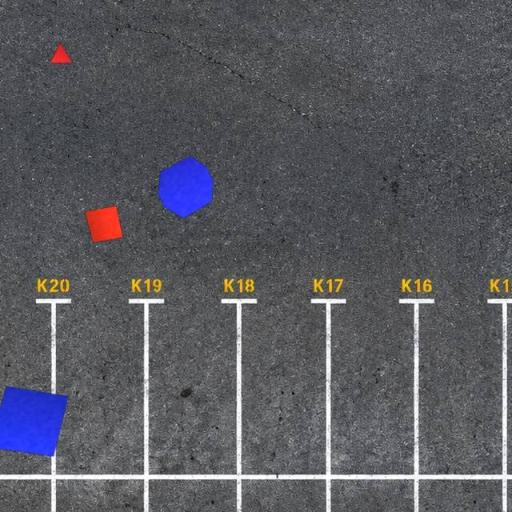BLUE_SQUARE: (0, 386, 69, 458)
RED_SQUARE: (84, 205, 124, 243)
